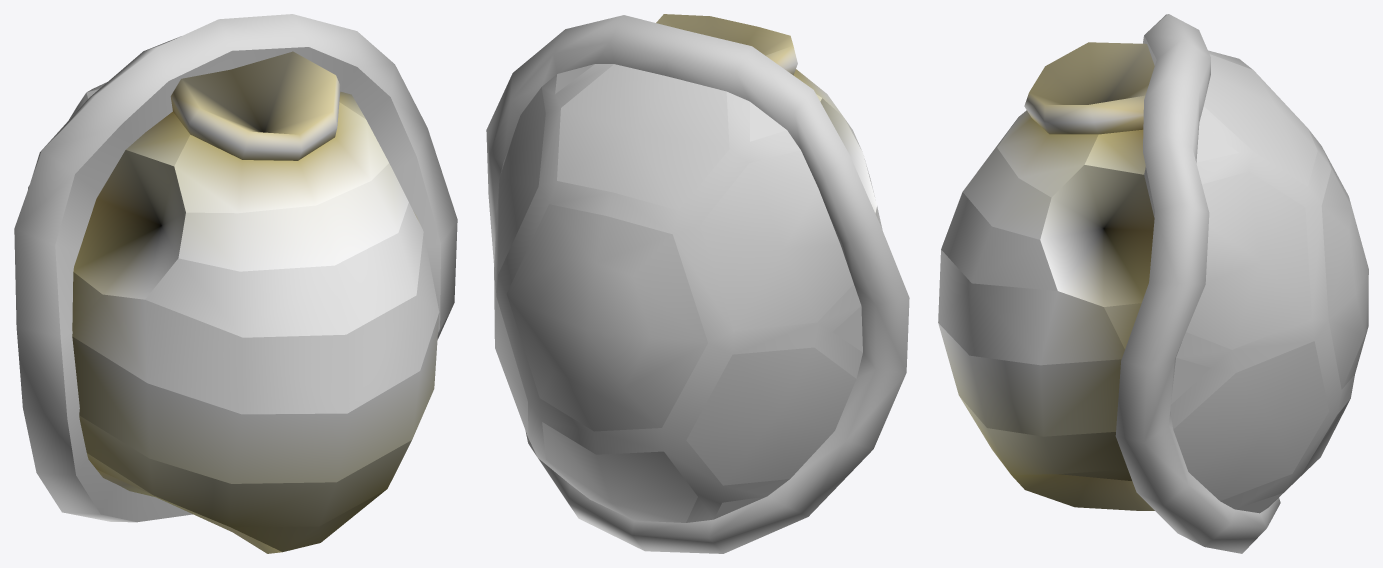
File: shell_luigi.fbx
The picture shows the model from 3 angles, left to right: view 1: azimuth 30°, elevation 25°; view 2: azimuth 150°, elevation 25°; view 3: azimuth 270°, elevation 25°; orthographic projection. The views are drawn at different scales.
Visible parts, largest first — view 1: boomerang_shell; view 2: boomerang_shell; view 3: boomerang_shell.
Part boxes in pixels (x1,y1,x2,y2): boomerang_shell: (14,14,457,553); boomerang_shell: (486,14,909,553); boomerang_shell: (938,14,1368,553).
Bounding box in the file's own units: 830 × 932 × 742.
